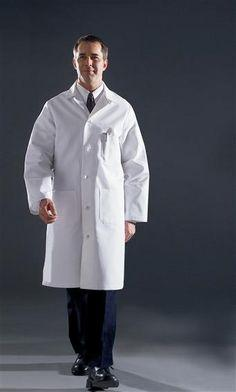Lab_coat: (16, 79, 153, 304)
